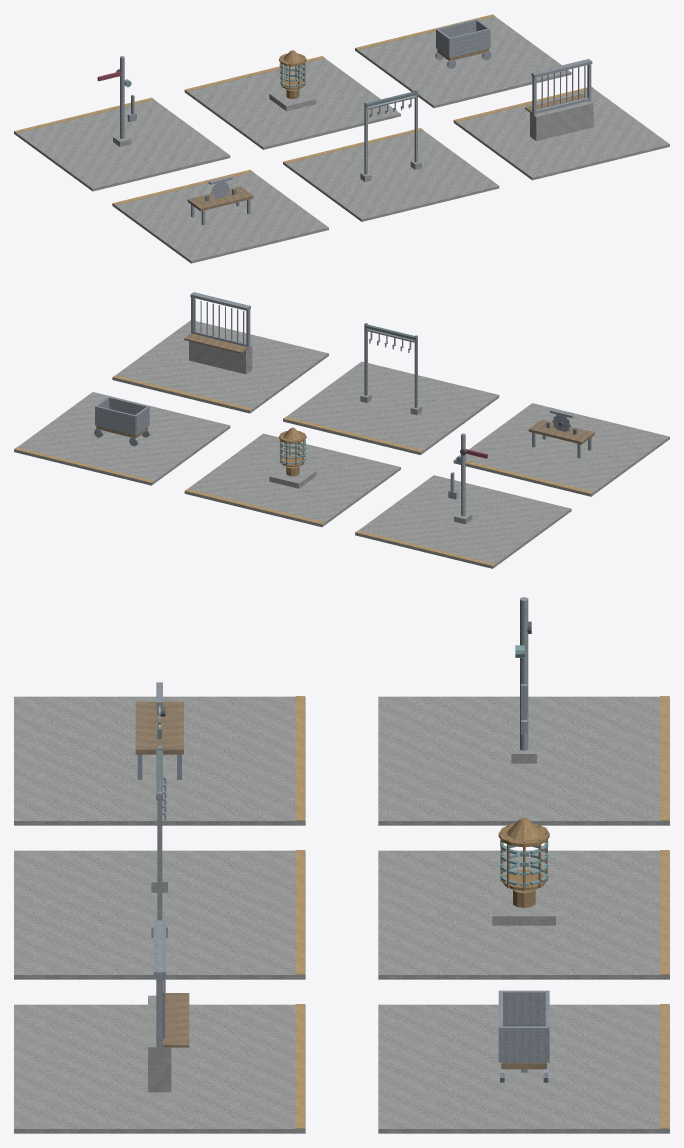
The model's file is level_blockout_kit_refined_p02.glb.
3 views of the same model, one above another, from view 1: azimuth 30°, elevation 25°; view 2: azimuth 150°, elevation 25°; view 3: azimuth 270°, elevation 25° (orthographic). The views are drawn at different scales.
Visible parts, largest first — view 1: level_blockout_kit_refined_p02; view 2: level_blockout_kit_refined_p02; view 3: level_blockout_kit_refined_p02.
Part boxes in pixels (<box>): level_blockout_kit_refined_p02: <box>14,14,669,263</box>; level_blockout_kit_refined_p02: <box>14,292,669,568</box>; level_blockout_kit_refined_p02: <box>14,597,669,1133</box>.
Size of the model in its own units: 19.65 by 3.48 by 12.6.
Materials: 10 (10 with a texture image).
